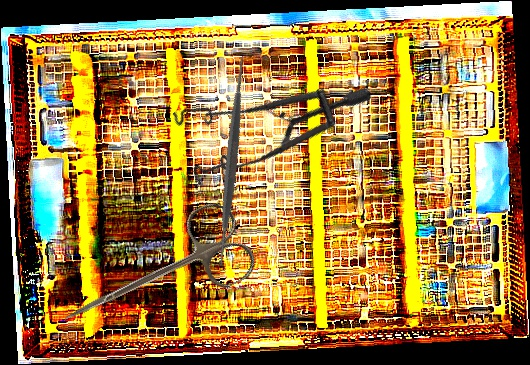Iris Scissors: (47, 195, 262, 361)
Spatula Surgical: (117, 48, 345, 275)
Speculum: (150, 3, 375, 227)
